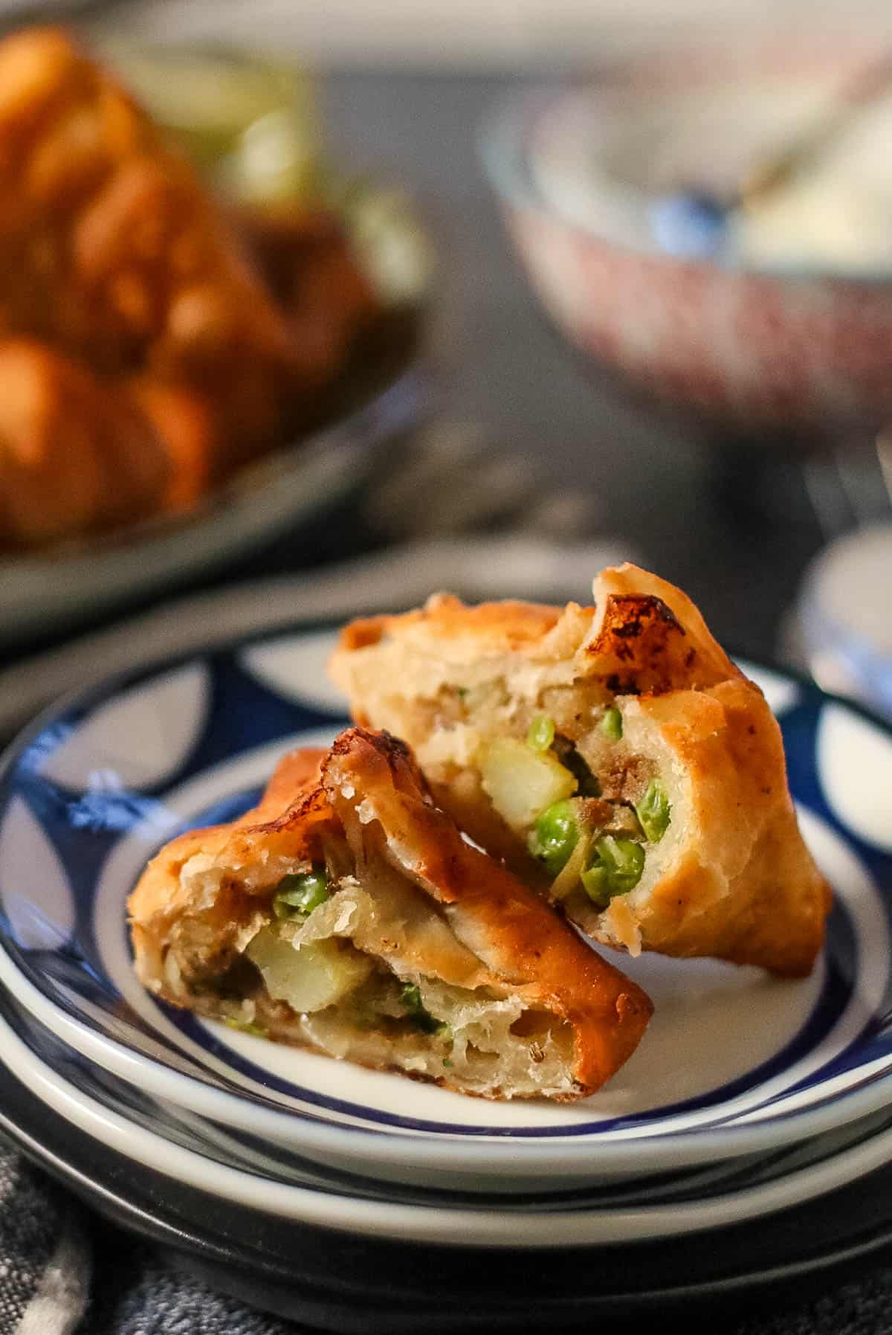samosa: (119, 733, 658, 1116), (338, 569, 836, 959)
